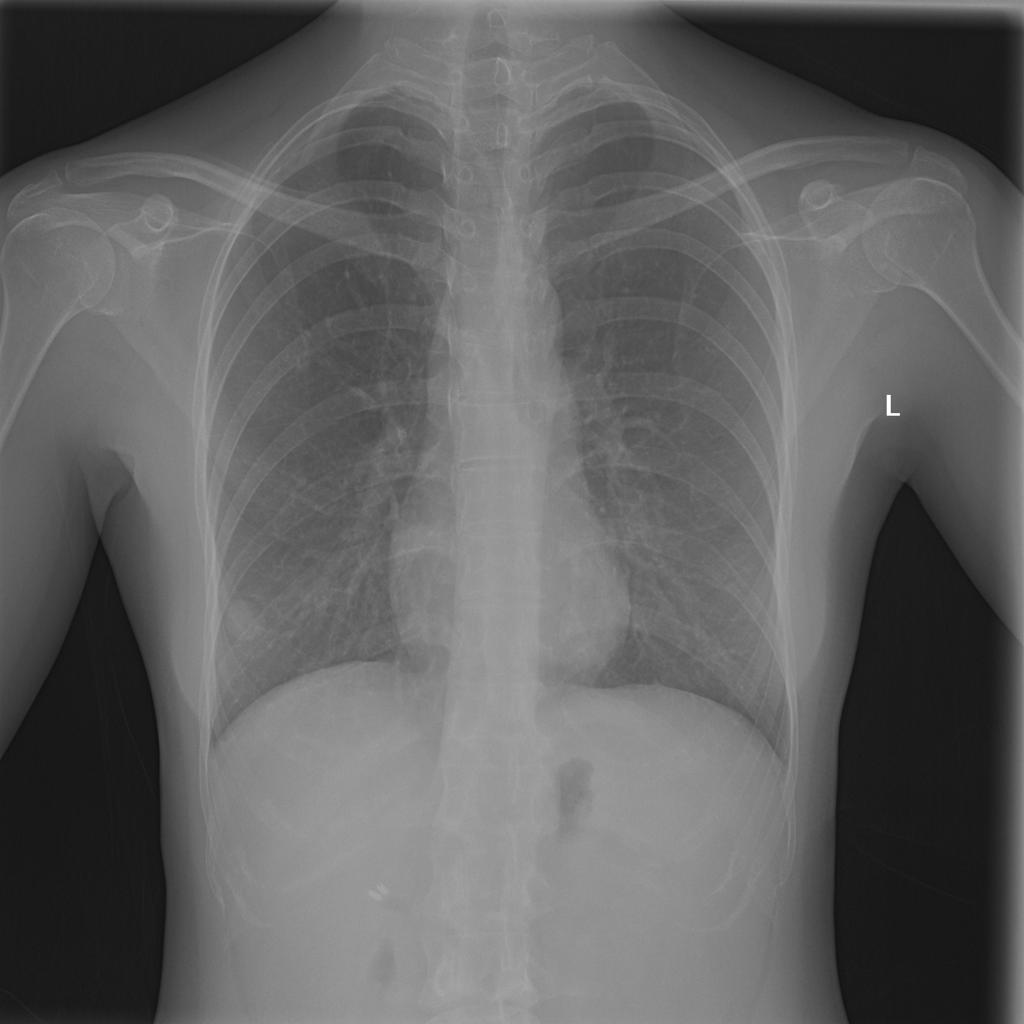nodule: (220, 592, 267, 647)
